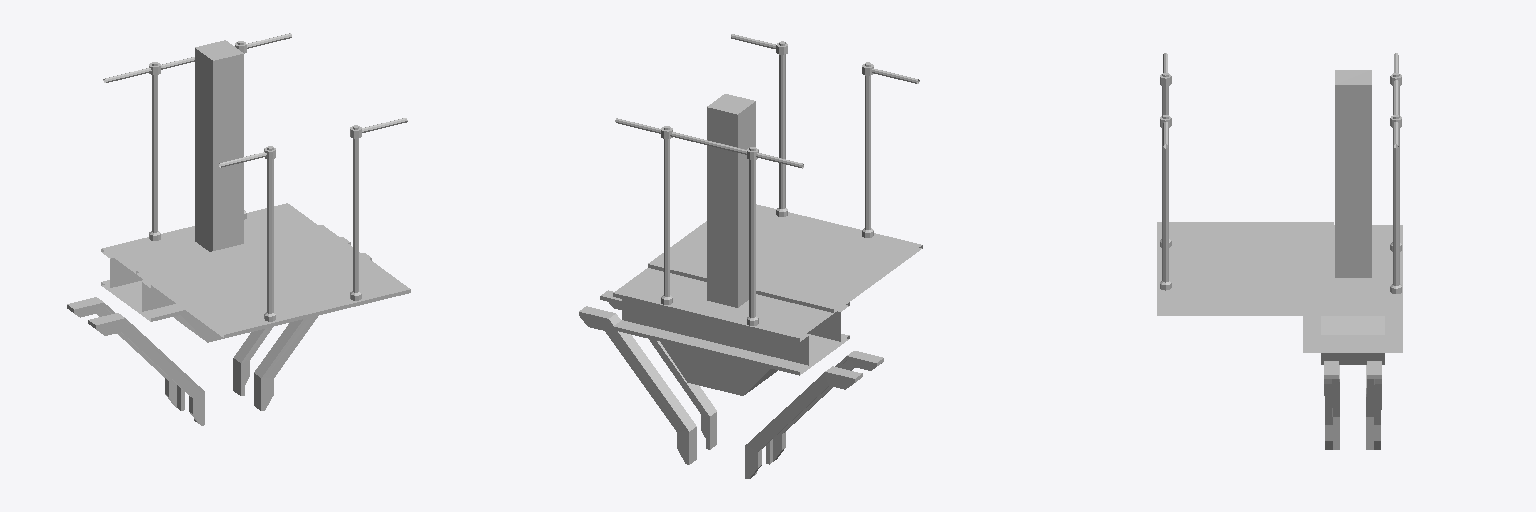
Rendered from lms_signal_gantry_platform_centre_post.obj.
3 renders of one model, left to right at view 1: azimuth 30°, elevation 25°; view 2: azimuth 150°, elevation 25°; view 3: azimuth 270°, elevation 25°, orthographic.
Parts seen in each view (by area): view 1: platform_centre_post_Cube.003; view 2: platform_centre_post_Cube.003; view 3: platform_centre_post_Cube.003.
Boxes of the visible parts, <box> form: platform_centre_post_Cube.003: <box>67,33,410,425</box>; platform_centre_post_Cube.003: <box>579,34,922,478</box>; platform_centre_post_Cube.003: <box>1157,53,1402,449</box>.
Bounding box in the file's own units: 1.48 × 1.83 × 1.14.